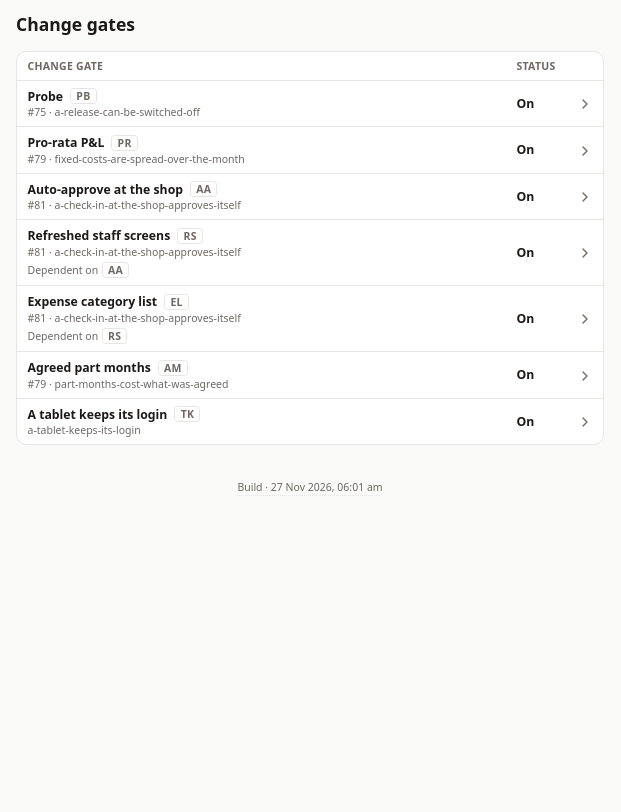
Test: the Change gates list › lists every gate with its code and state
Click the link "Probe PB #75 · a-release-can-be-switched-off": (114, 103) x1=28 y1=88 x2=200 y2=119
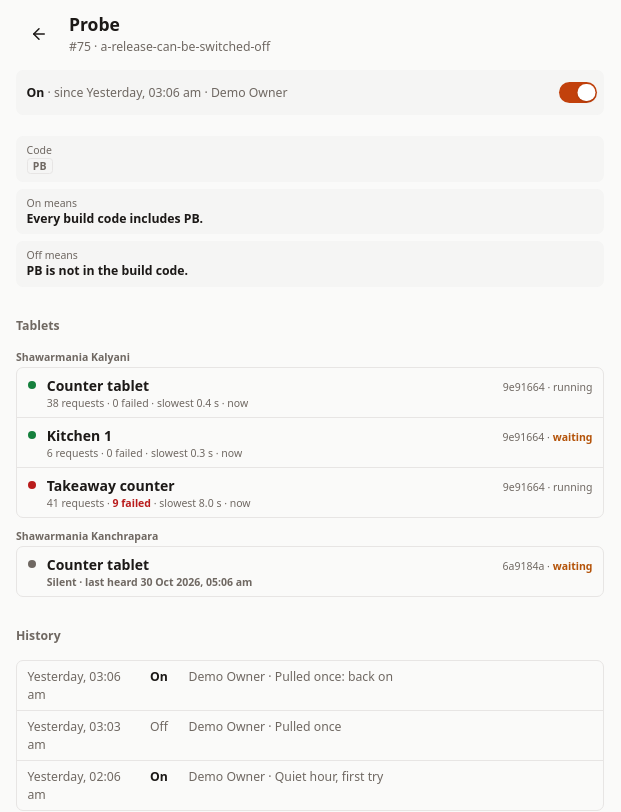
expect the element with test id "gate-probe" is shown: met
